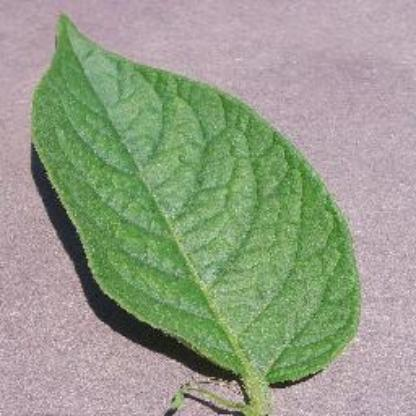Healthy-plant: (24, 5, 388, 379)
